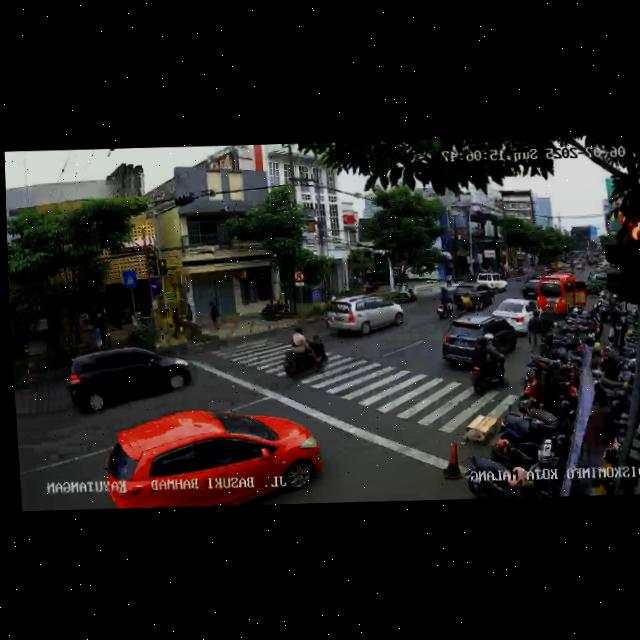car: (100, 403, 324, 511), (59, 342, 188, 416), (438, 314, 515, 369), (324, 292, 407, 342), (534, 271, 589, 319), (488, 297, 542, 338), (443, 280, 493, 317), (474, 271, 509, 293), (521, 277, 540, 300)
motorcycle: (277, 326, 328, 384), (467, 332, 508, 394), (457, 288, 480, 314), (435, 286, 452, 321)
